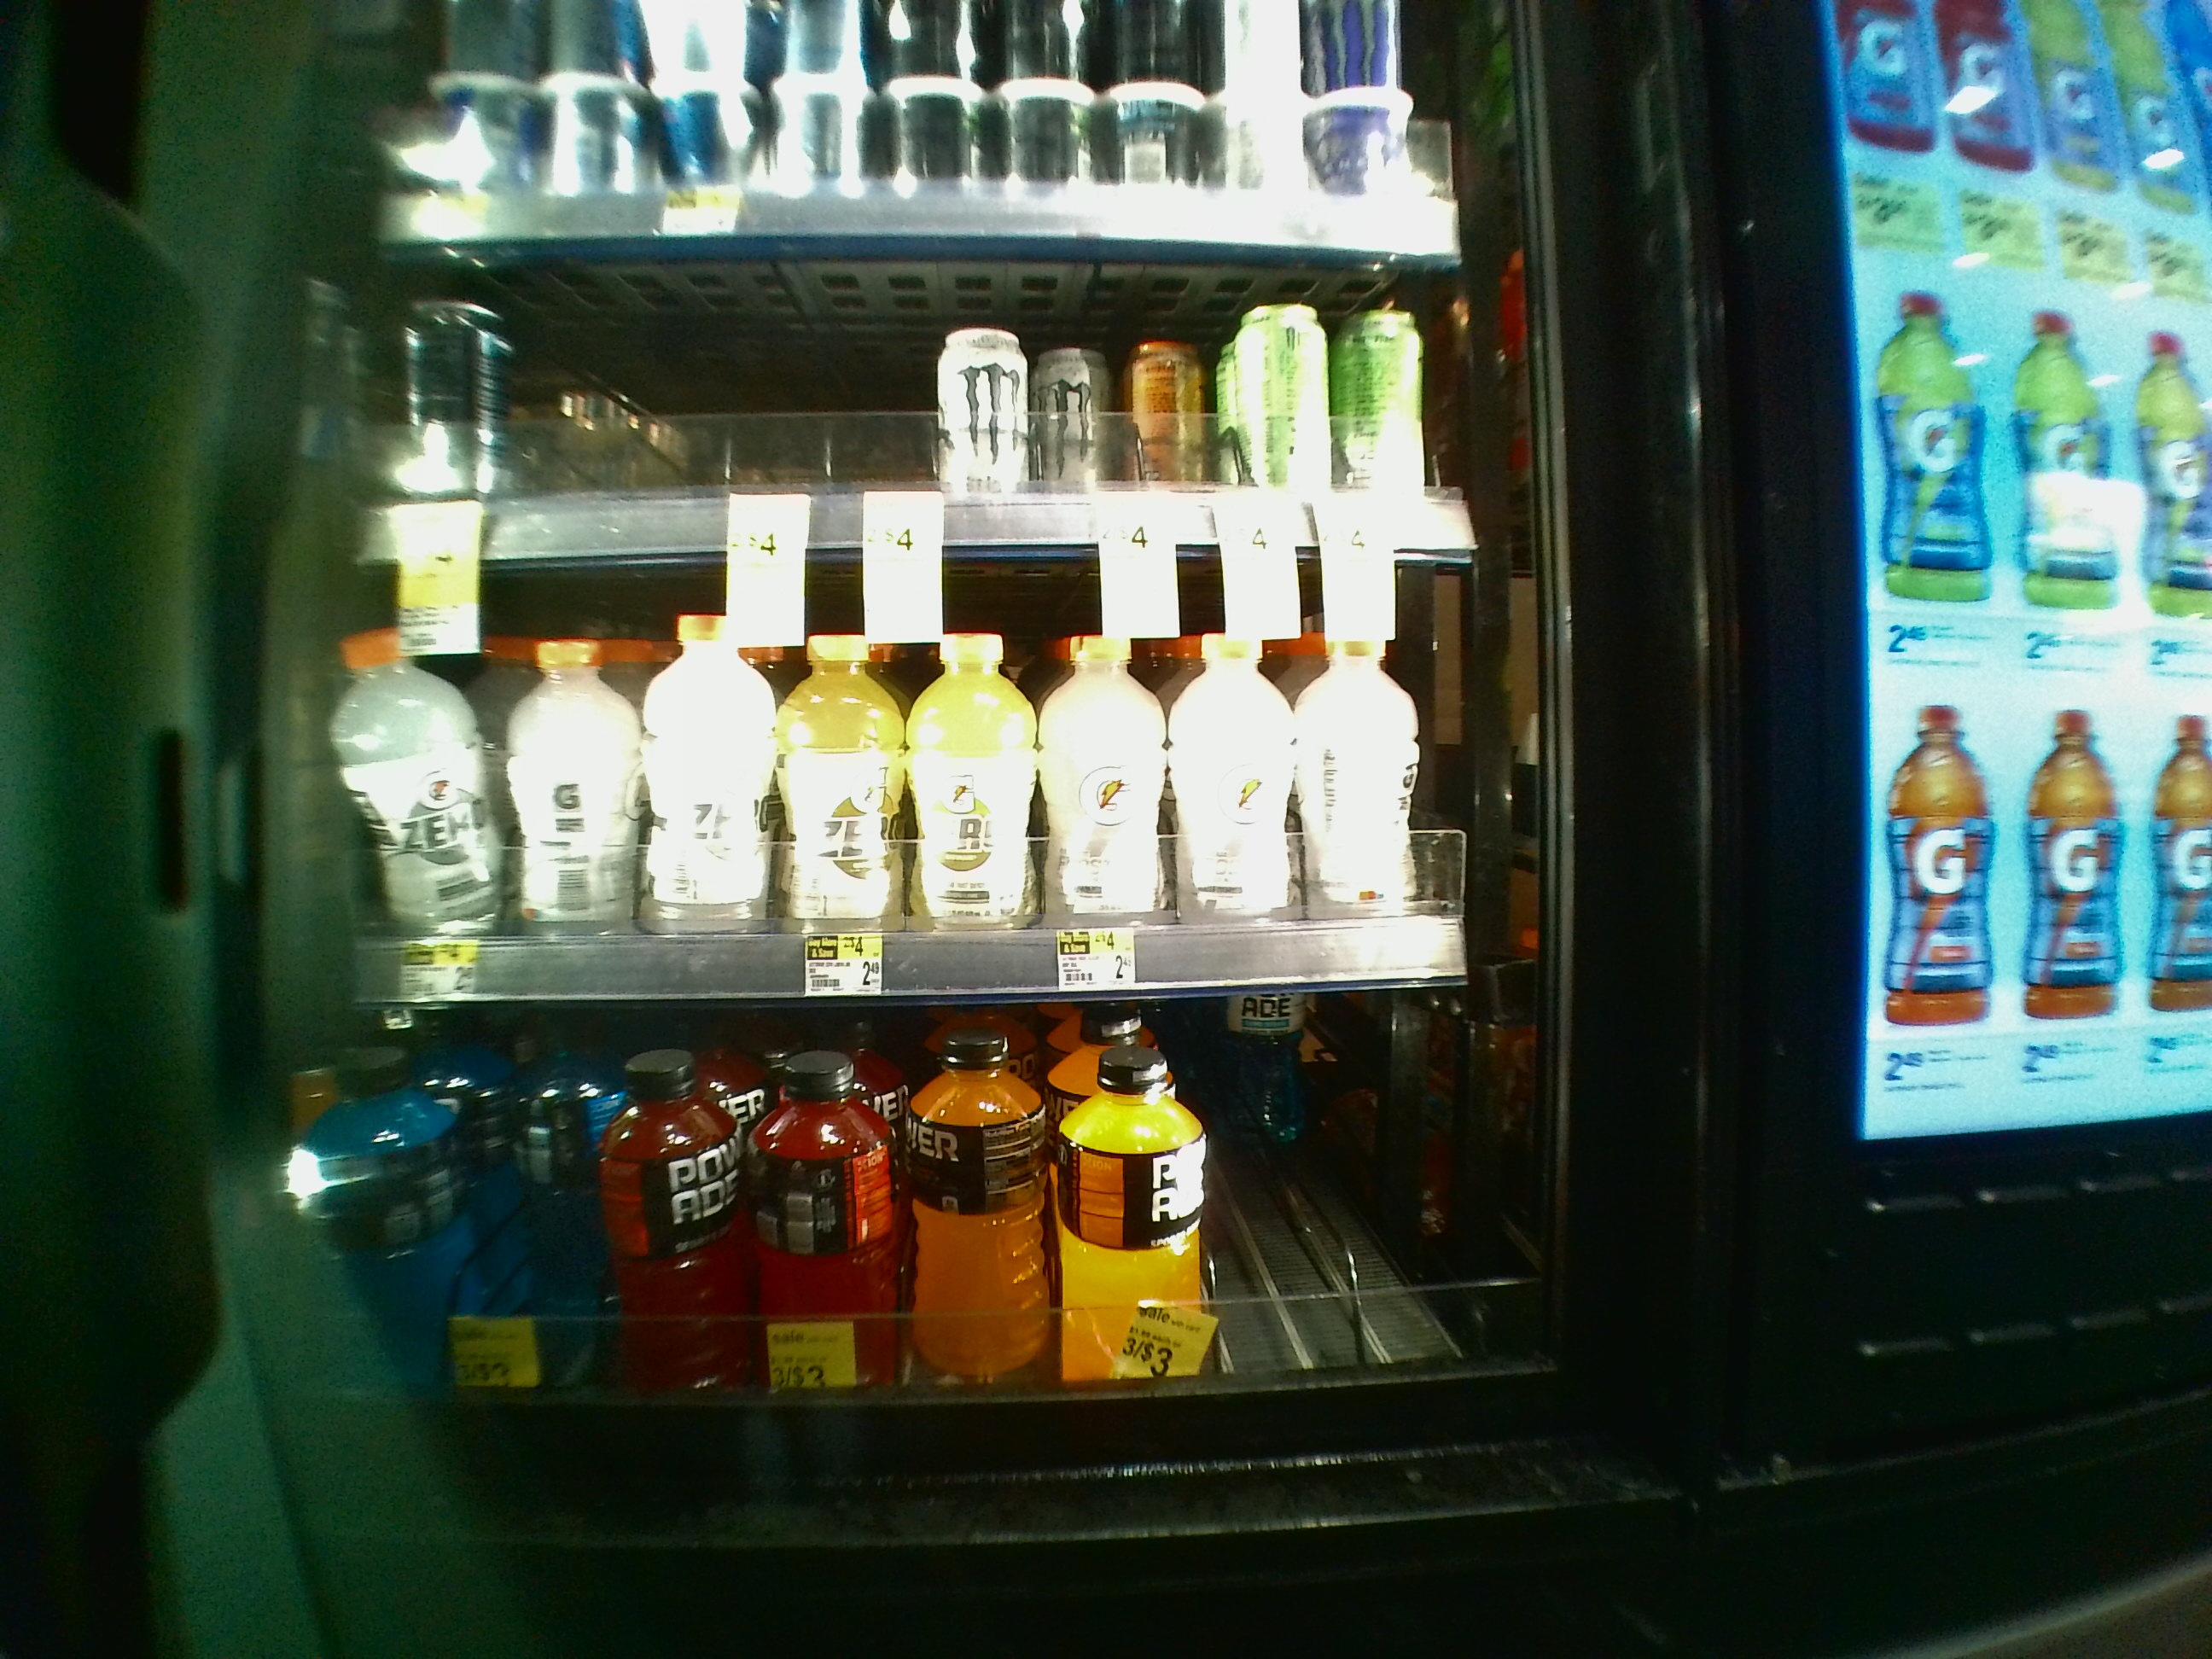shelf: (324, 566, 1550, 999), (305, 1006, 1554, 1403), (333, 242, 1554, 565)
